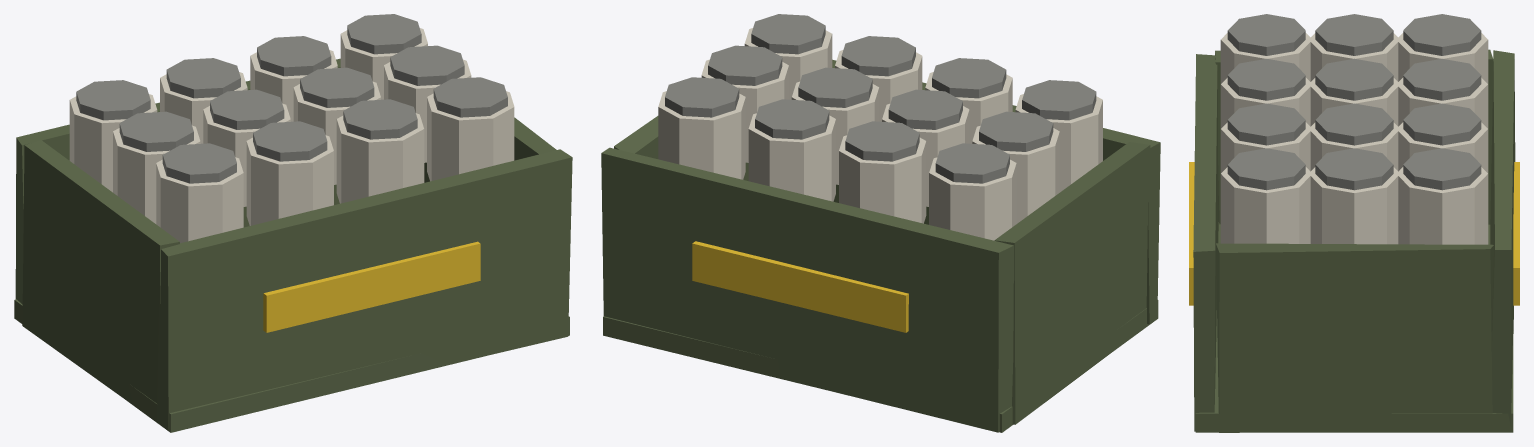
The model's file is good_rations.glb.
3 views of the same model, side by side, from view 1: azimuth 30°, elevation 25°; view 2: azimuth 150°, elevation 25°; view 3: azimuth 270°, elevation 25° (orthographic).
Parts seen in each view (by area): view 1: good_rations; view 2: good_rations; view 3: good_rations.
Boxes of the visible parts, <box> form: good_rations: <box>14,14,572,432</box>; good_rations: <box>601,14,1160,432</box>; good_rations: <box>1189,14,1519,432</box>.
Size of the model in its own units: 0.5672 by 0.312 by 0.396.
